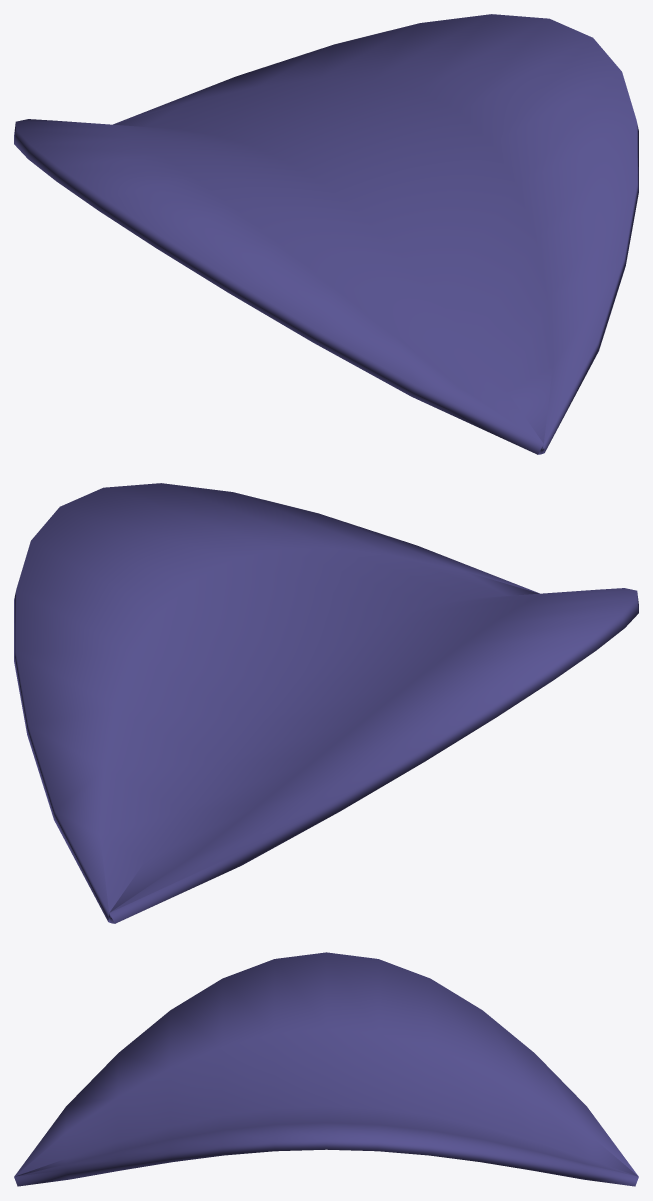
File: leaf_big.glb
3 renders of one model, top to bottom at view 1: azimuth 30°, elevation 25°; view 2: azimuth 150°, elevation 25°; view 3: azimuth 270°, elevation 25°, orthographic. The views are drawn at different scales.
Visible parts, largest first — view 1: LeafBig; view 2: LeafBig; view 3: LeafBig.
Boxes of the visible parts, bbox=[...] form: LeafBig: bbox=[14, 14, 638, 454]; LeafBig: bbox=[14, 483, 638, 923]; LeafBig: bbox=[14, 952, 638, 1186].
Size of the model in its own units: 0.3446 by 0.1185 by 0.48.
